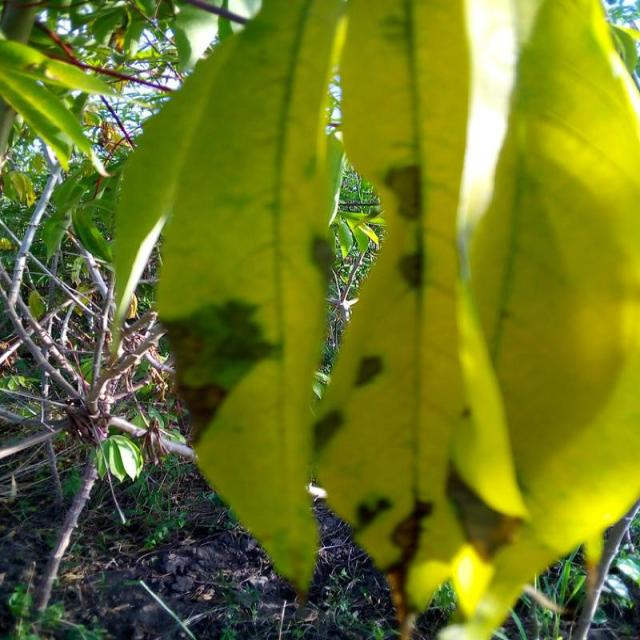cassava leaf: (107, 0, 638, 638)
